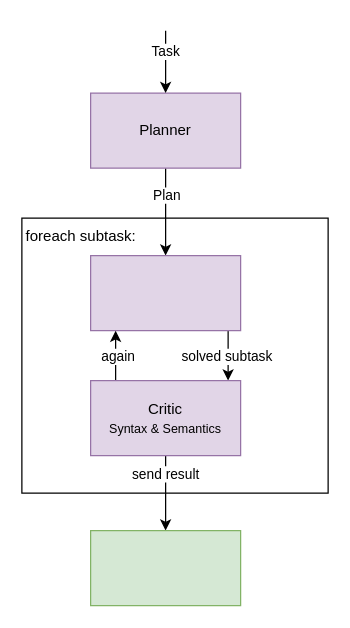
This 350x628 diagram has some shape labels left out. Here are the shapes that lost their labels. From the top down, the centre of each, then its label:
[165,292]: Actor
[165,567]: Green Agent & Docker environment
